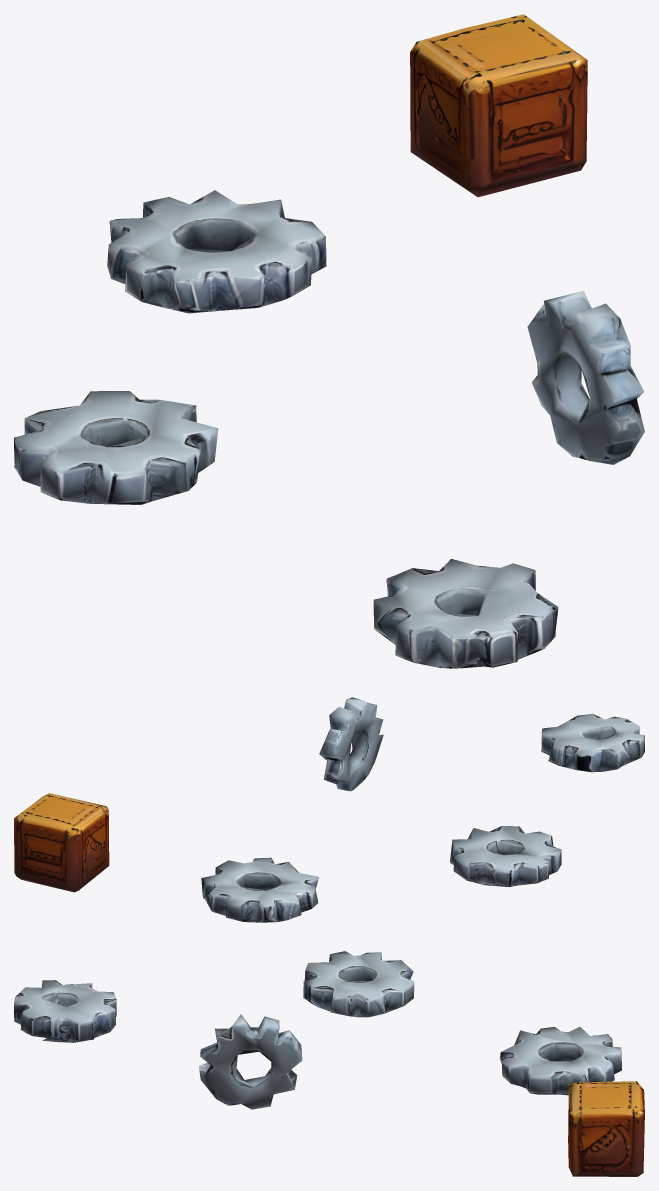
The model's file is mechanical+parts+3d+model.obj.
The picture shows the model from 3 angles, top to bottom: view 1: azimuth 30°, elevation 25°; view 2: azimuth 150°, elevation 25°; view 3: azimuth 270°, elevation 25°; orthographic projection. The views are drawn at different scales.
Visible parts, largest first — view 1: tripo_node_a6e520c6-addc-41e3-b2d9-38c2e0a804f9; view 2: tripo_node_a6e520c6-addc-41e3-b2d9-38c2e0a804f9; view 3: tripo_node_a6e520c6-addc-41e3-b2d9-38c2e0a804f9.
Boxes of the visible parts, <box> form: tripo_node_a6e520c6-addc-41e3-b2d9-38c2e0a804f9: <box>14,14,644,668</box>; tripo_node_a6e520c6-addc-41e3-b2d9-38c2e0a804f9: <box>14,697,644,922</box>; tripo_node_a6e520c6-addc-41e3-b2d9-38c2e0a804f9: <box>14,951,644,1176</box>.
Bounding box in the file's own units: 0.7831 × 0.1548 × 0.9989.
1 material, 1 textured.
